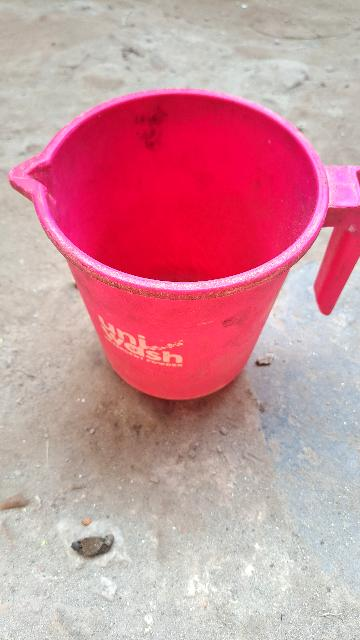hardplastic: (17, 141, 334, 403)
